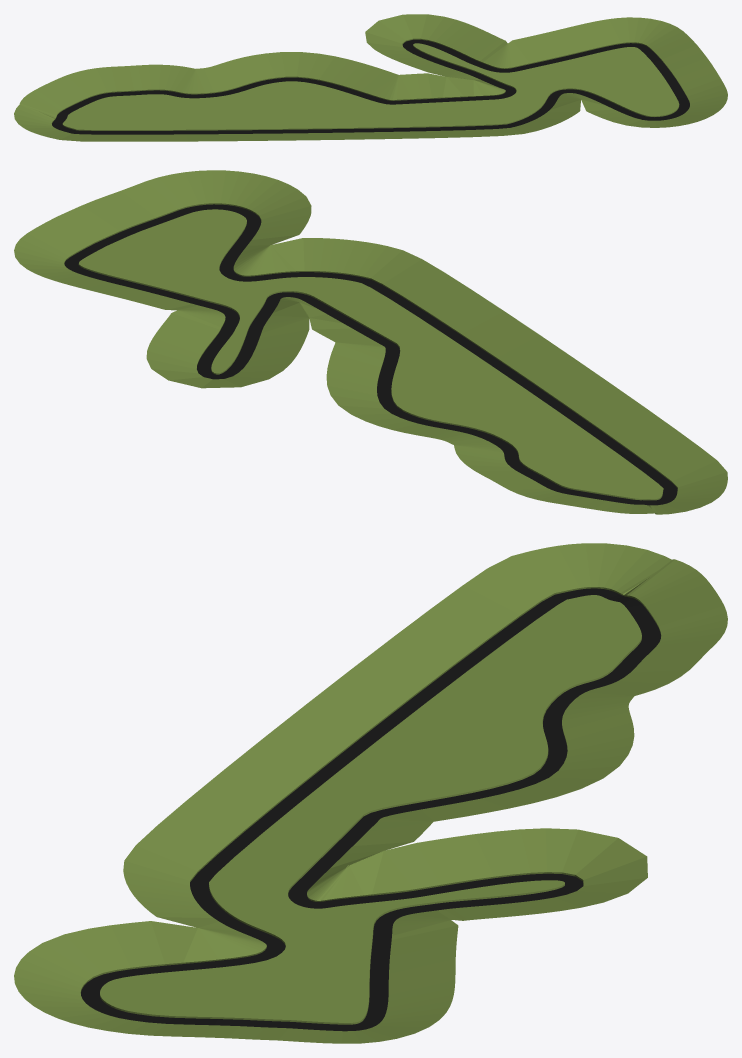
The model's file is racetrack.gltf.
3 renders of one model, top to bottom at view 1: azimuth 30°, elevation 25°; view 2: azimuth 150°, elevation 25°; view 3: azimuth 270°, elevation 25°, orthographic. The views are drawn at different scales.
Parts seen in each view (by area): view 1: BezierCurve; view 2: BezierCurve; view 3: BezierCurve.
Part boxes in pixels (x1,y1,x2,y2): BezierCurve: (14, 14, 727, 141); BezierCurve: (14, 170, 727, 514); BezierCurve: (14, 543, 727, 1043).
Size of the model in its own units: 747 by 16.54 by 444.
